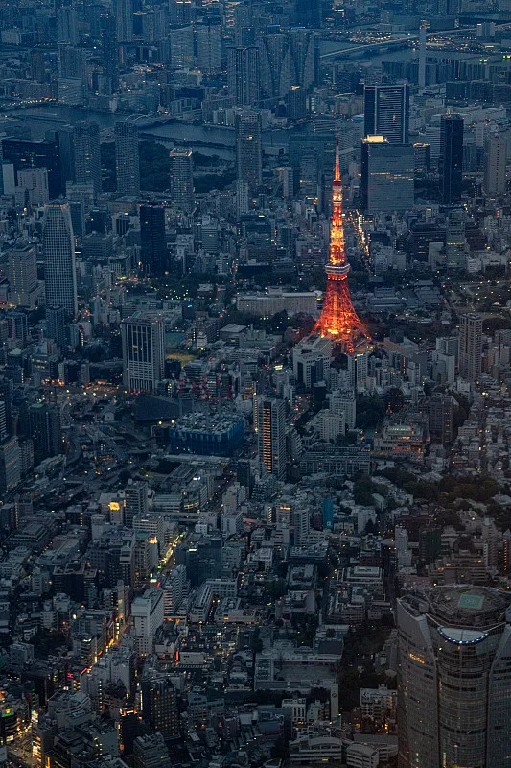Tokyo: (313, 147, 368, 352)
